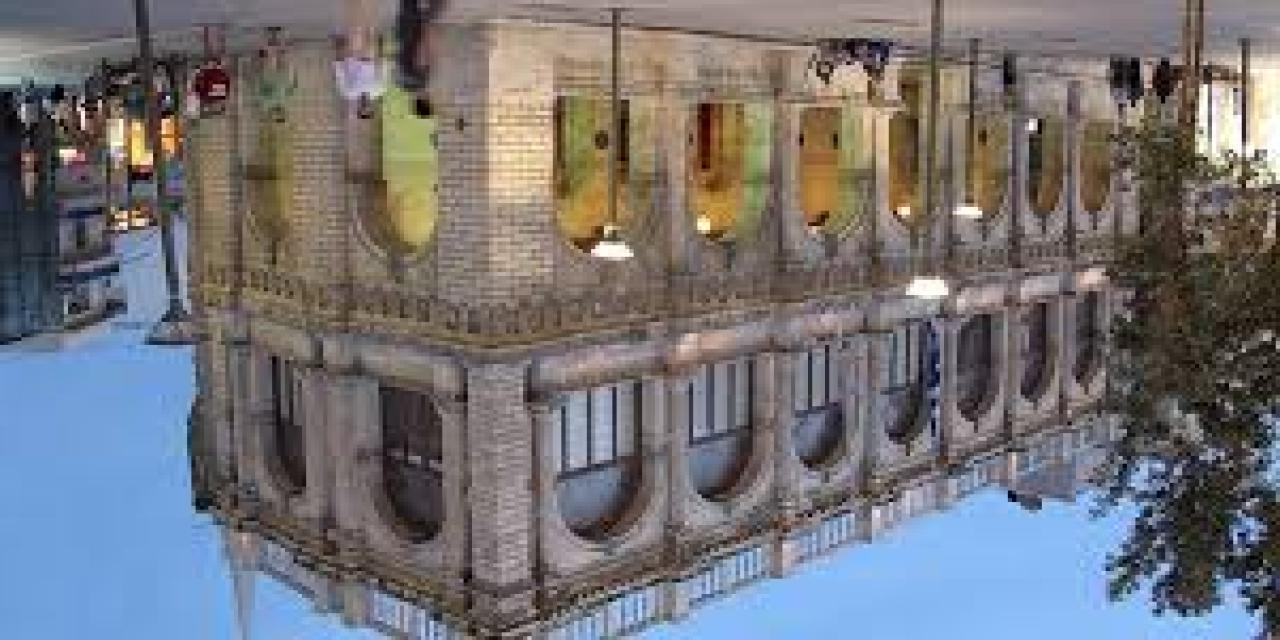Loggia: (183, 40, 1160, 640)
